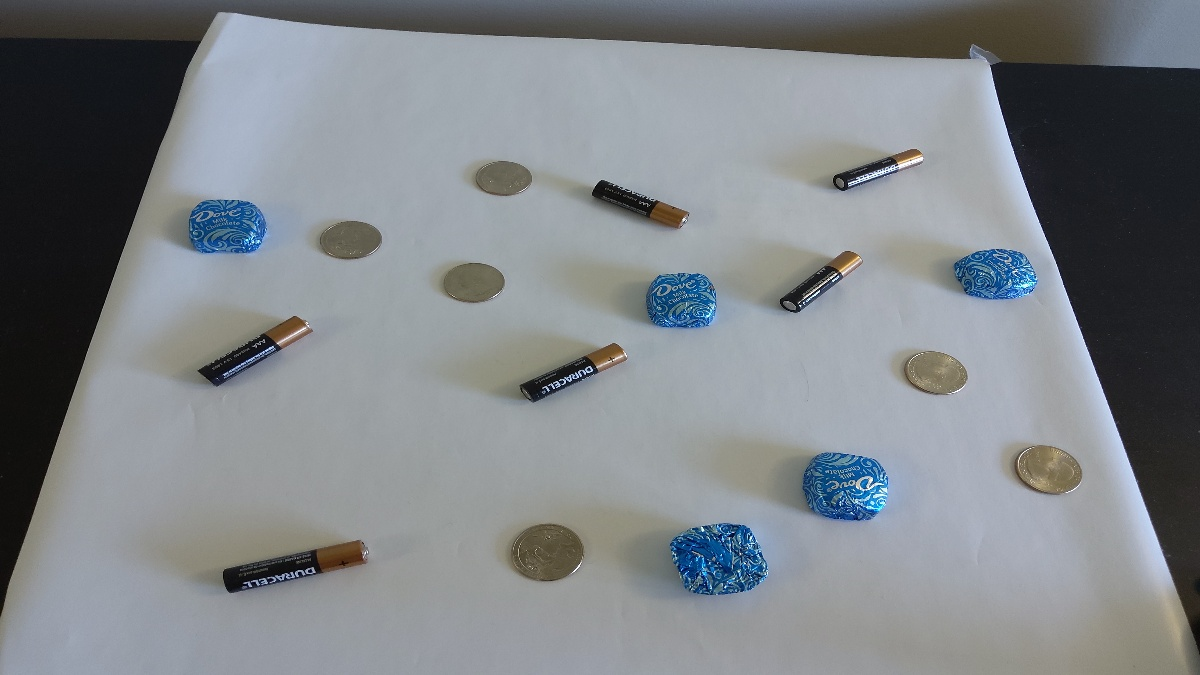battery: (203, 515, 384, 613), (192, 303, 320, 391), (582, 167, 704, 247), (773, 235, 871, 325), (512, 337, 635, 407), (827, 128, 934, 203)
chocolate_blue: (663, 515, 781, 607), (942, 237, 1052, 311), (792, 446, 895, 523), (173, 188, 285, 255), (636, 268, 724, 337)
coin_quarter: (500, 515, 589, 588), (1007, 433, 1089, 499), (896, 343, 975, 402), (432, 257, 513, 307), (316, 211, 386, 265), (473, 156, 536, 203)
